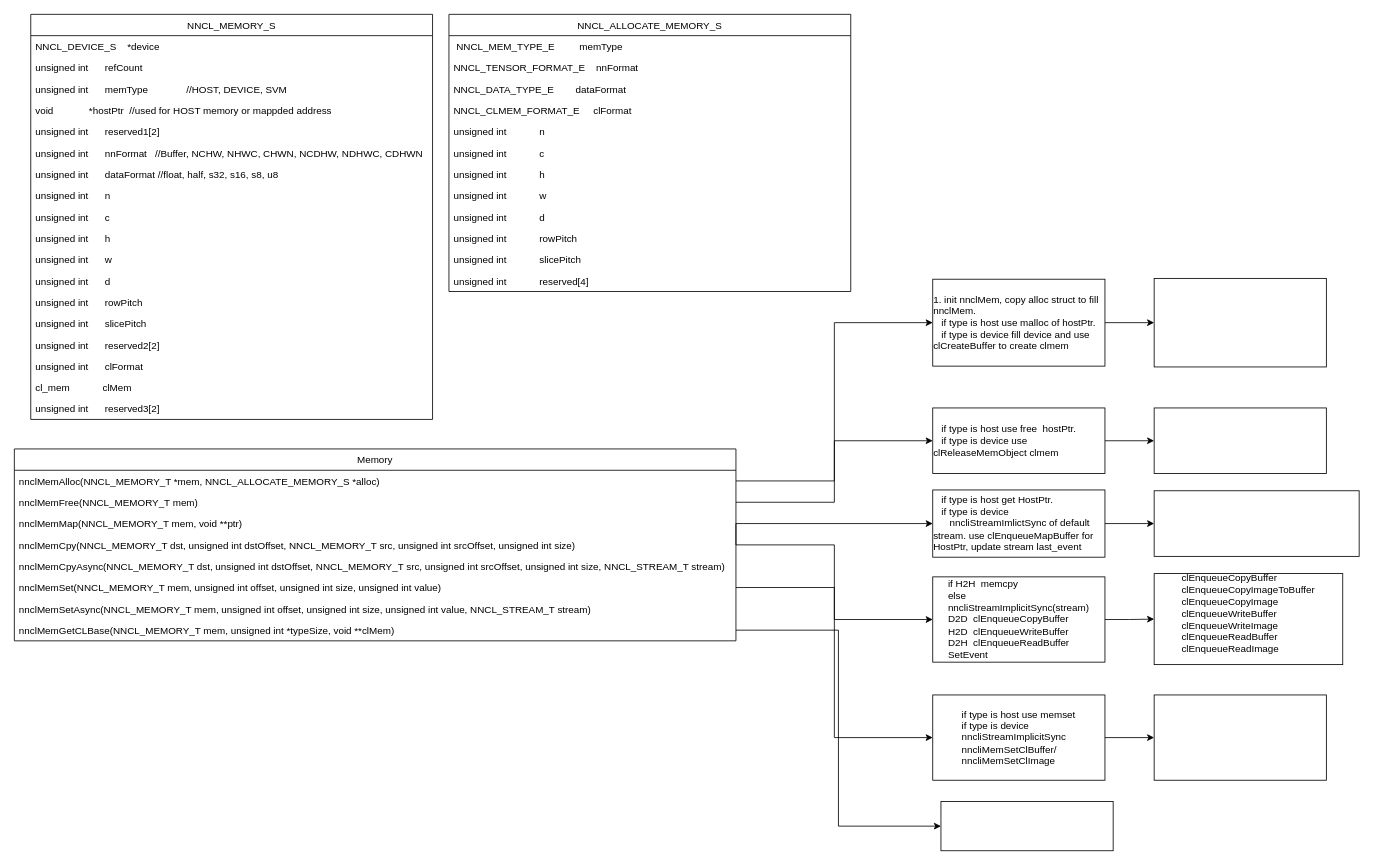
This 1374x865 diagram has some shape labels left out. Each missing label, with the centre of its shape:
clCreateBuffer/clCreateImage: point (1239, 322)
clEnqueueMapBuffer/clEnqueueMapImage: point (1256, 523)
clReleaseMemObject: point (1239, 440)
get clmem from nnclMem: point (1026, 826)
nncliMemSetClBuffer nncliMemSetClImage: point (1239, 737)
